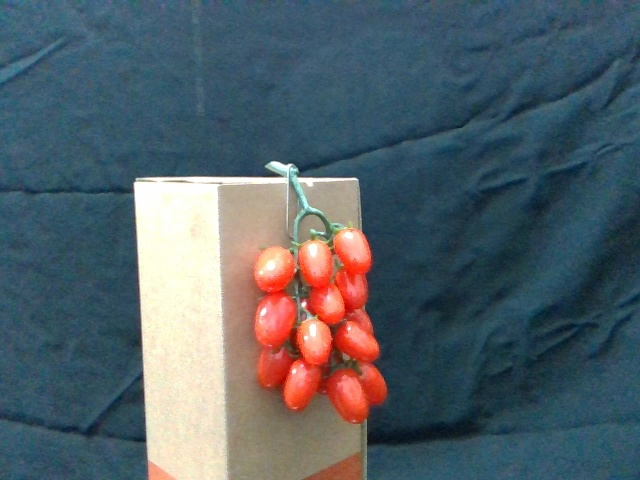tomato: (253, 294, 298, 350), (326, 370, 369, 426), (283, 357, 323, 413), (332, 226, 375, 275), (254, 246, 301, 290), (335, 322, 384, 364), (294, 318, 335, 368), (307, 279, 349, 325), (253, 344, 295, 389), (297, 239, 336, 287), (352, 361, 389, 407), (337, 268, 373, 312)
